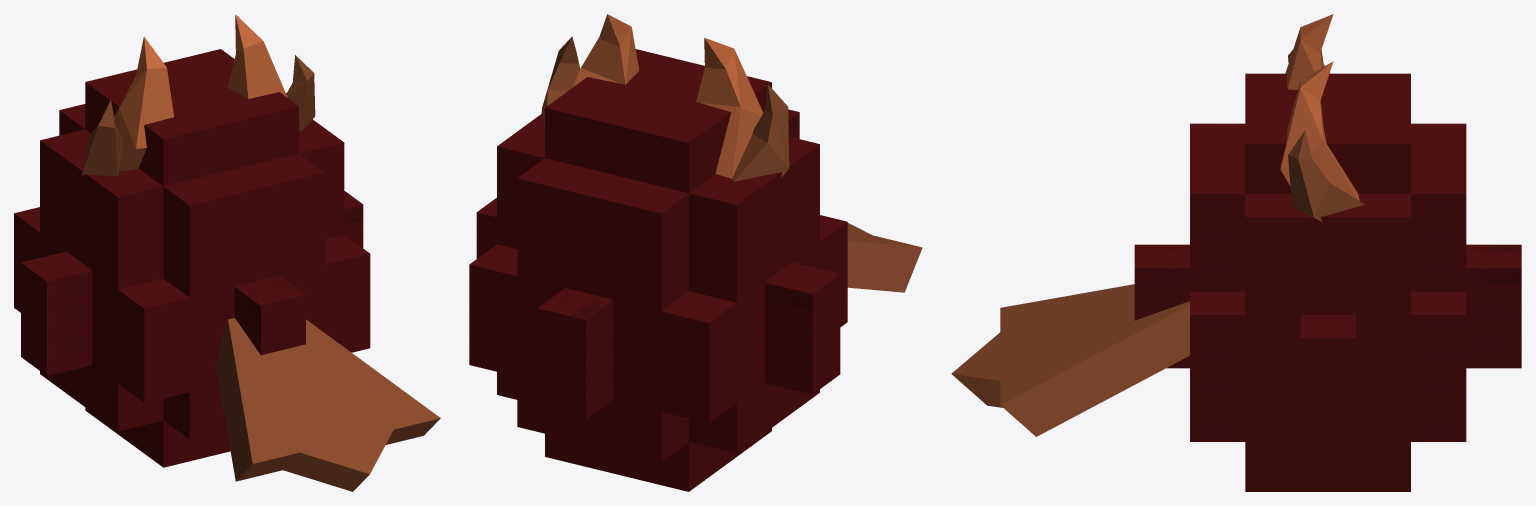
The model's file is egg_z07_01.glb.
3 renders of one model, left to right at view 1: azimuth 30°, elevation 25°; view 2: azimuth 150°, elevation 25°; view 3: azimuth 270°, elevation 25°, orthographic. The views are drawn at different scales.
Visible parts, largest first — view 1: FireEagle_egg; view 2: FireEagle_egg; view 3: FireEagle_egg.
Boxes of the visible parts, <box> form: FireEagle_egg: <box>14,14,440,491</box>; FireEagle_egg: <box>469,14,922,491</box>; FireEagle_egg: <box>951,14,1521,491</box>.
Bounding box in the file's own units: 2.71 × 3.24 × 4.
4 materials, 4 textured.
